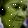without_mask: (2, 2, 28, 28)
